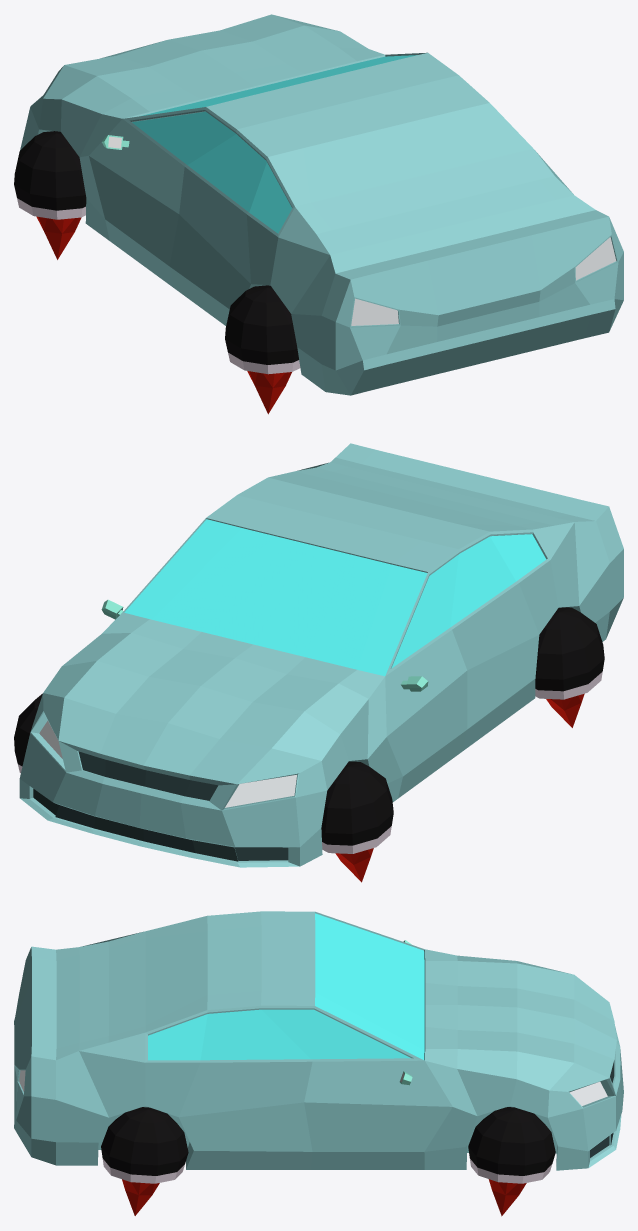
Rendered from CarFinal.fbx.
3 renders of one model, top to bottom at view 1: azimuth 30°, elevation 25°; view 2: azimuth 150°, elevation 25°; view 3: azimuth 270°, elevation 25°, orthographic. The views are drawn at different scales.
Parts seen in each view (by area): view 1: FloatingCar; view 2: FloatingCar; view 3: FloatingCar.
Part boxes in pixels (bbox=[...]): FloatingCar: bbox=[14, 14, 623, 414]; FloatingCar: bbox=[14, 443, 623, 882]; FloatingCar: bbox=[14, 911, 623, 1216].
Size of the model in its own units: 263 by 153 by 438.
